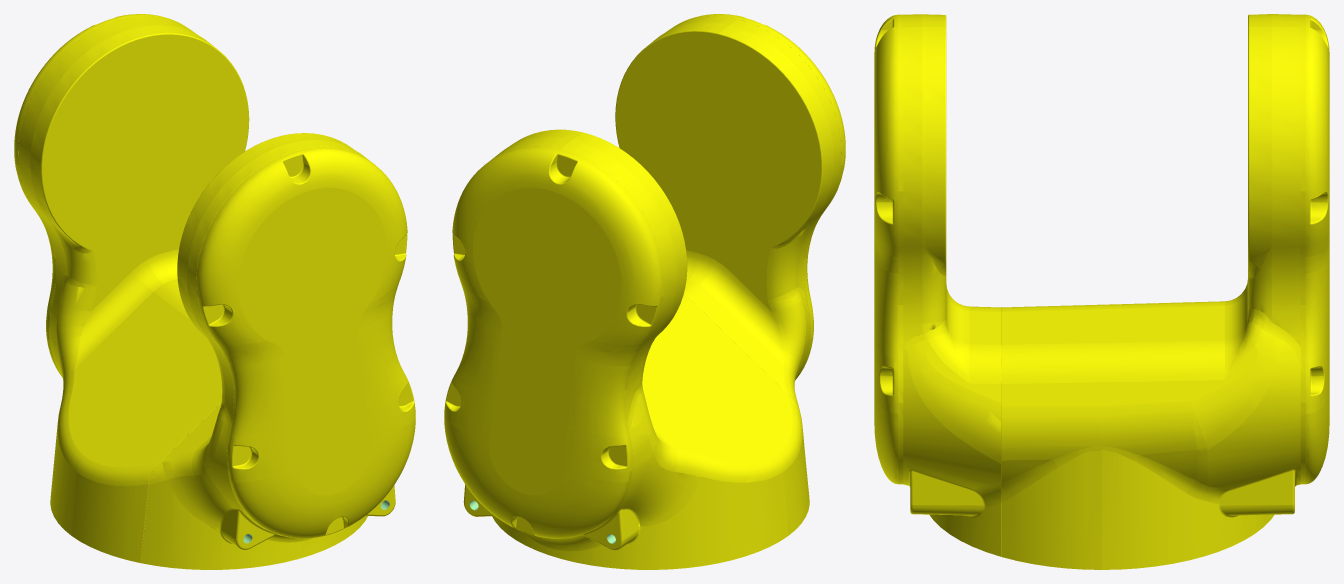
3 renders of one model, left to right at view 1: azimuth 30°, elevation 25°; view 2: azimuth 150°, elevation 25°; view 3: azimuth 270°, elevation 25°, orthographic. The views are drawn at different scales.
Visible parts, largest first — view 1: Mesh_0; view 2: Mesh_0; view 3: Mesh_0.
Part boxes in pixels (bbox=[...]): Mesh_0: bbox=[14, 14, 415, 569]; Mesh_0: bbox=[444, 14, 845, 569]; Mesh_0: bbox=[874, 14, 1329, 569].
Size of the model in its own units: 0.15 by 0.19 by 0.2153.
